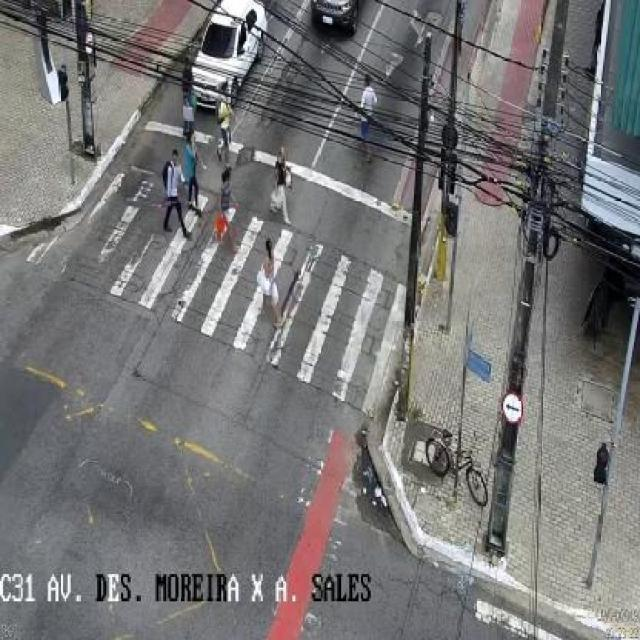Car: (183, 0, 269, 116)
Cycle: (424, 425, 491, 509)
